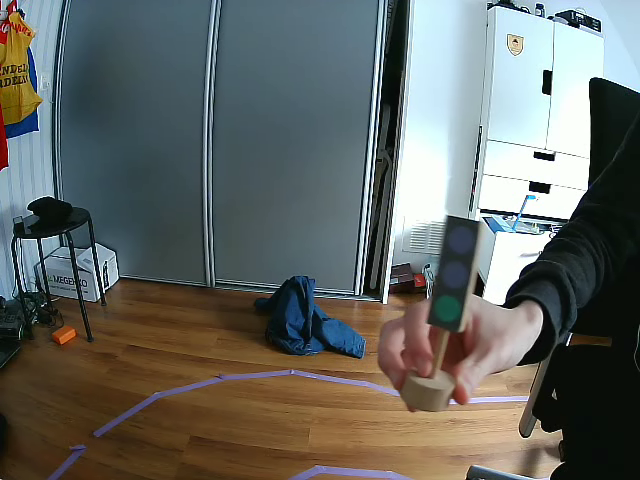groenlicht: (424, 222, 486, 329)
